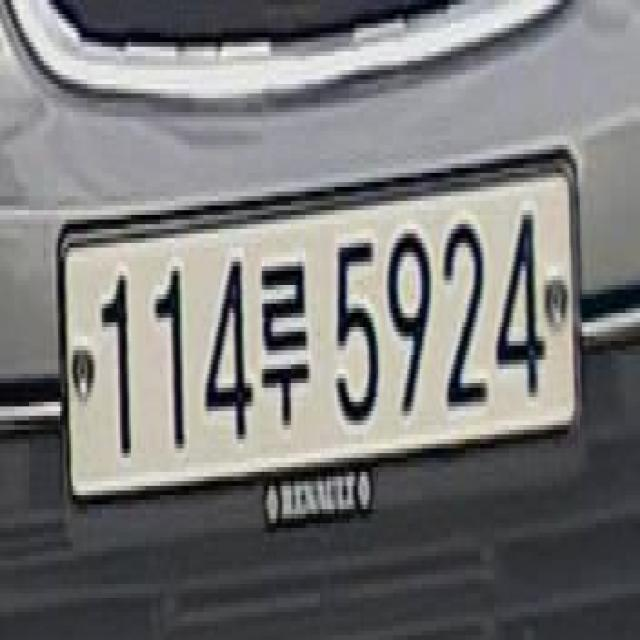illegal_plate: (57, 144, 588, 530)
